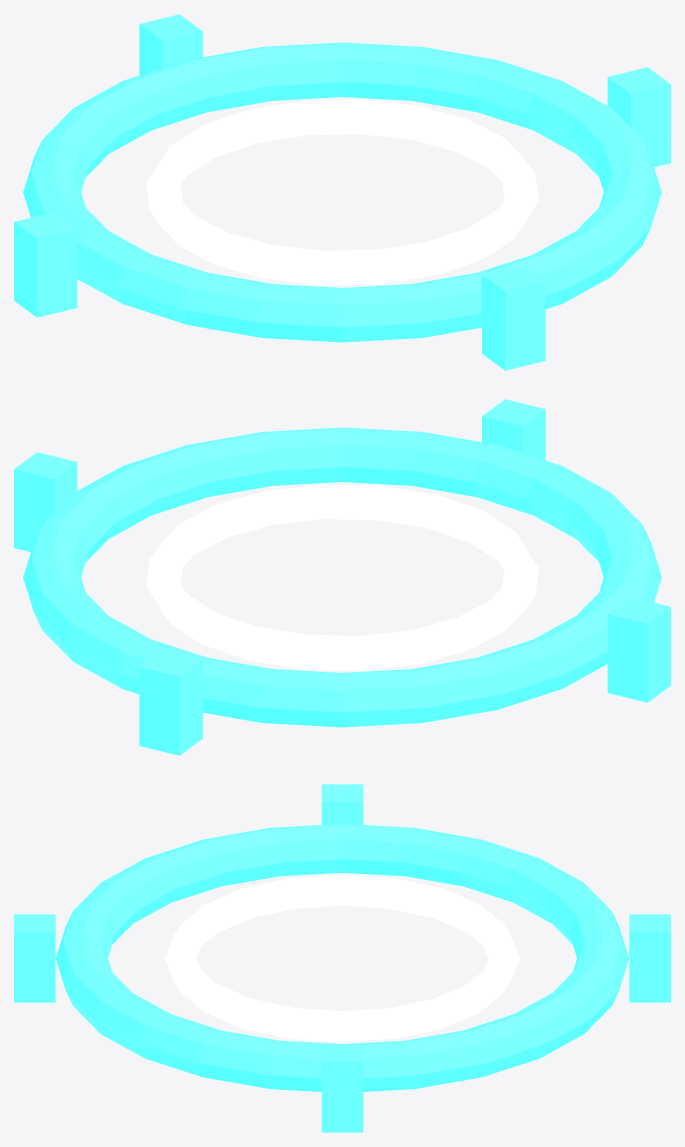
Rendered from transfer_ring.glb.
The picture shows the model from 3 angles, top to bottom: view 1: azimuth 30°, elevation 25°; view 2: azimuth 150°, elevation 25°; view 3: azimuth 270°, elevation 25°; orthographic projection. The views are drawn at different scales.
Parts seen in each view (by area): view 1: MetroTransferRing; view 2: MetroTransferRing; view 3: MetroTransferRing.
Part boxes in pixels (x1,y1,x2,y2): MetroTransferRing: [14, 14, 670, 370]; MetroTransferRing: [14, 399, 670, 755]; MetroTransferRing: [14, 784, 670, 1132].
Size of the model in its own units: 2.52 by 0.3 by 2.52.
